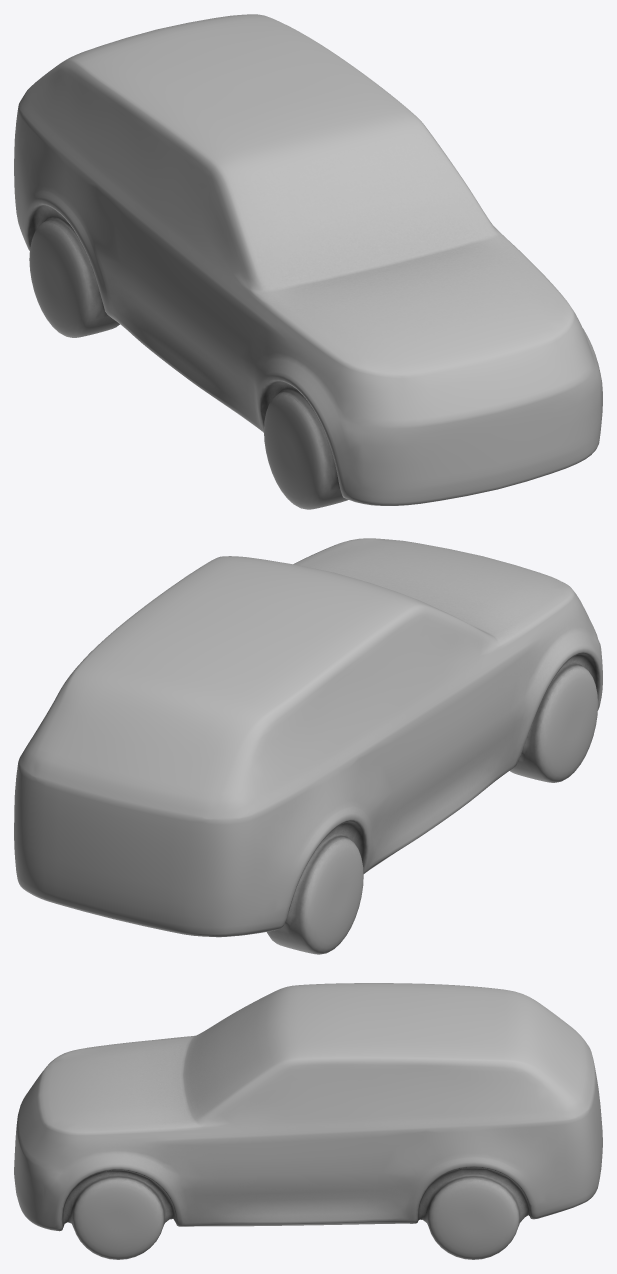
Rendered from suv.glb.
3 views of the same model, one above another, from view 1: azimuth 30°, elevation 25°; view 2: azimuth 150°, elevation 25°; view 3: azimuth 270°, elevation 25° (orthographic). The views are drawn at different scales.
Parts seen in each view (by area): view 1: SUV; view 2: SUV; view 3: SUV.
Part boxes in pixels (<box>): SUV: <box>14,14,602,509</box>; SUV: <box>14,538,602,954</box>; SUV: <box>14,983,602,1259</box>.
Size of what is drawn, in the model's own units: 2.06 by 1.78 by 4.83.
Materials: 1 (1 with a texture image).
